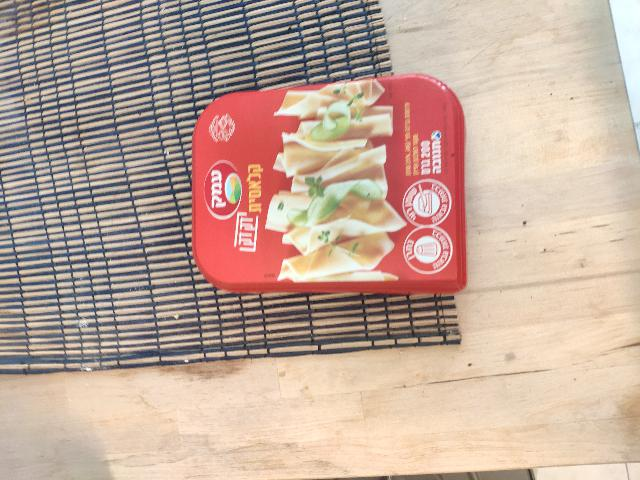cheese: (208, 90, 512, 289)
